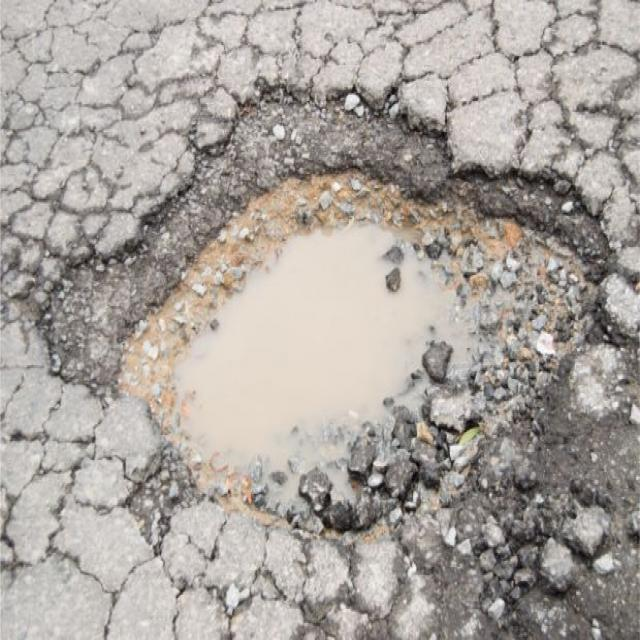pothole: (24, 61, 622, 554)
